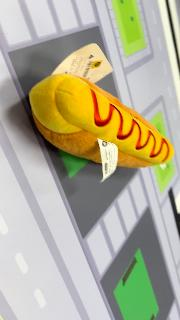hotdog: (29, 72, 175, 170)
